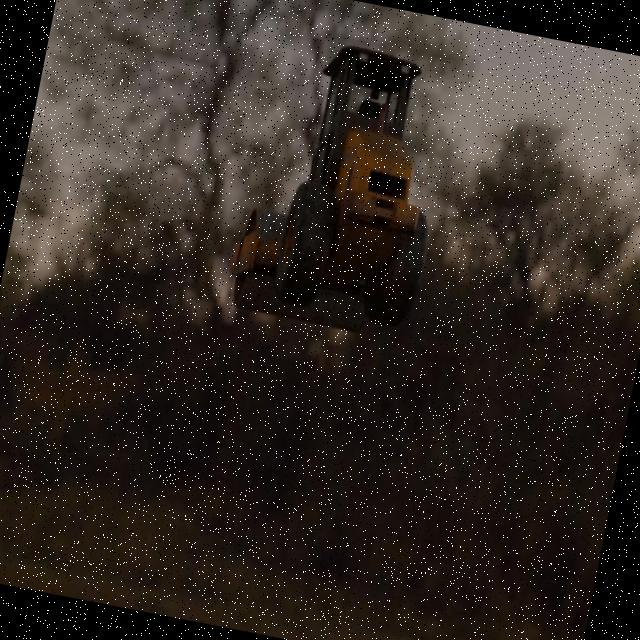Roller: (222, 30, 463, 343)
